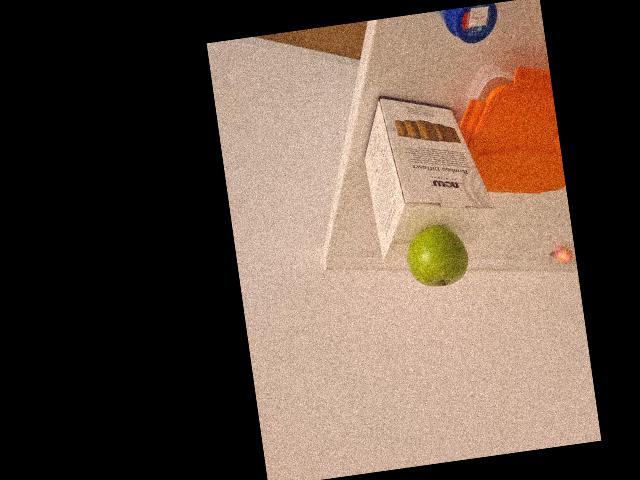apple: (403, 220, 466, 292)
